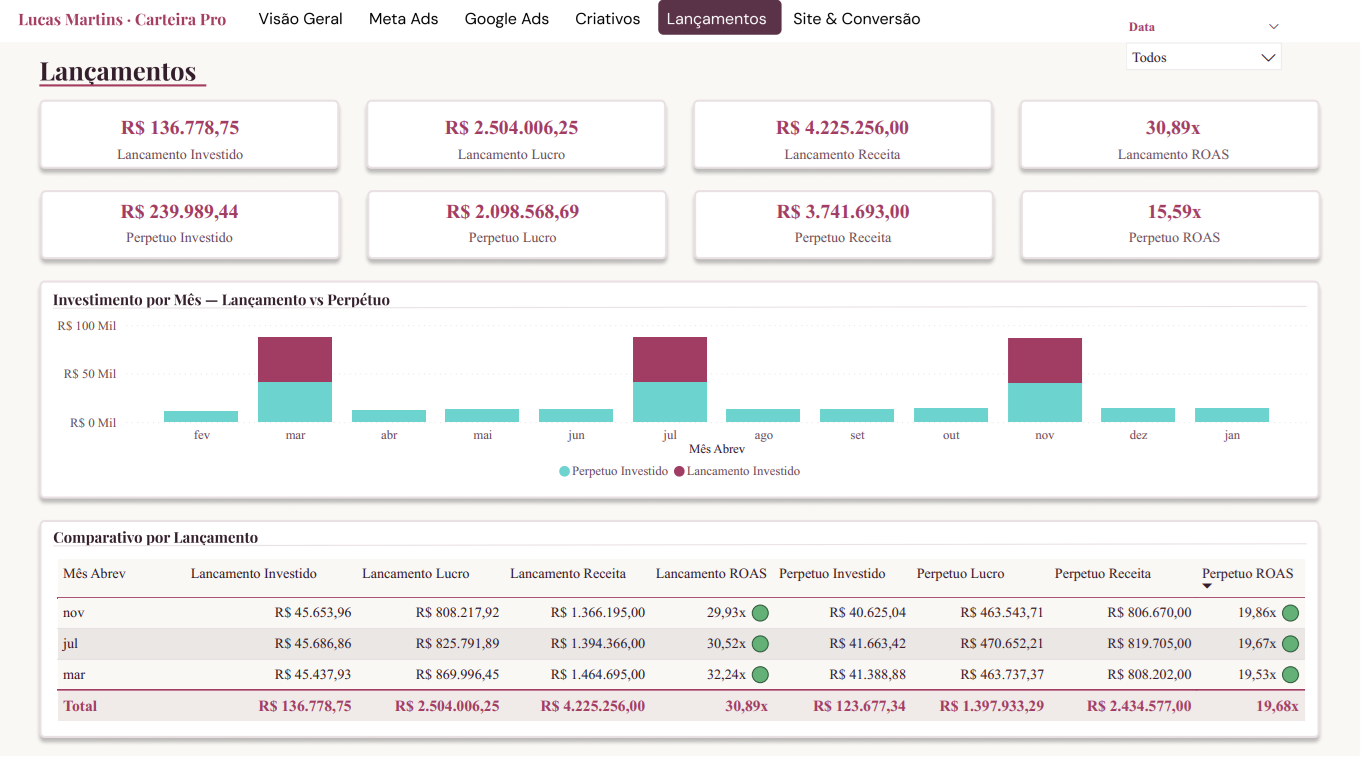

This screenshot's page, from the dashboard's own definition file:
{"tool":"powerbi","page":{"name":"Lançamentos","canvas":[1280,720],"ordinal":4},"visuals":[{"type":"card","fields":{"Values":["Medidas.Lancamento Investido"]},"box":[50,105.7,240,61.4],"z":0},{"type":"card","fields":{"Values":["Medidas.Lancamento Lucro"]},"box":[361.4,105.7,241.4,61.4],"z":1000},{"type":"card","fields":{"Values":["Medidas.Lancamento Receita"]},"box":[672.9,105.7,241.4,61.4],"z":2000},{"type":"card","fields":{"Values":["Medidas.Lancamento ROAS"]},"box":[984.3,105.7,241.4,61.4],"z":3000},{"type":"card","fields":{"Values":["Medidas.Perpetuo Investido"]},"box":[48.6,187.1,241.4,55.7],"z":4000},{"type":"card","fields":{"Values":["Medidas.Perpetuo Lucro"]},"box":[362.9,187.1,240,55.7],"z":5000},{"type":"card","fields":{"Values":["Medidas.Perpetuo Receita"]},"box":[674.3,187.1,240,55.7],"z":6000},{"type":"card","fields":{"Values":["Medidas.Perpetuo ROAS"]},"box":[985.7,187.1,240,55.7],"z":7000},{"type":"columnChart","fields":{"Category":["Calendário.Mês Abrev"],"Y":["Medidas.Perpetuo Investido","Medidas.Lancamento Investido"]},"box":[48.6,300,1187.1,170],"z":8000},{"type":"tableEx","title":"Lançamentos","fields":{"Values":["Calendário.Mês Abrev","Medidas.Lancamento Investido","Medidas.Lancamento Lucro","Medidas.Lancamento Receita","Medidas.Lancamento ROAS","Medidas.Perpetuo Investido","Medidas.Perpetuo Lucro","Medidas.Perpetuo Receita","Medidas.Perpetuo ROAS"]},"box":[48.6,528.6,1187.1,168.6],"z":9000},{"type":"actionButton","box":[241.7,4.9,87.1,40.5],"z":10000},{"type":"actionButton","box":[328.8,4.9,99.4,40.5],"z":11000},{"type":"actionButton","box":[428.2,4.9,99.4,40.5],"z":12000},{"type":"actionButton","box":[528.8,4.9,84.7,40.5],"z":13000},{"type":"actionButton","box":[742.3,6.1,128.8,40.5],"z":14000},{"type":"slicer","fields":{"Values":["Calendário.Date.Variation.Hierarquia de datas.Ano","Calendário.Date.Variation.Hierarquia de datas.Mês"]},"box":[1050.3,20.9,166.9,55.2],"z":15000}]}

Visuals, with their boxes in screenshot pixels (x1, y1, x2, y2), scaled from the page's 1280x720 canvas onto the 1369x758 screenshot:
card - Medidas.Lancamento Investido: l=53, t=111, r=310, b=176
card - Medidas.Lancamento Lucro: l=387, t=111, r=645, b=176
card - Medidas.Lancamento Receita: l=720, t=111, r=978, b=176
card - Medidas.Lancamento ROAS: l=1053, t=111, r=1311, b=176
card - Medidas.Perpetuo Investido: l=52, t=197, r=310, b=256
card - Medidas.Perpetuo Lucro: l=388, t=197, r=645, b=256
card - Medidas.Perpetuo Receita: l=721, t=197, r=978, b=256
card - Medidas.Perpetuo ROAS: l=1054, t=197, r=1311, b=256
columnChart - Calendário.Mês Abrev x Medidas.Perpetuo Investido: l=52, t=316, r=1322, b=495
"Lançamentos" tableEx: l=52, t=556, r=1322, b=734
actionButton: l=259, t=5, r=352, b=48
actionButton: l=352, t=5, r=458, b=48
actionButton: l=458, t=5, r=564, b=48
actionButton: l=566, t=5, r=656, b=48
actionButton: l=794, t=6, r=932, b=49
slicer - Calendário.Date.Variation.Hierarquia de datas.Ano x Calendário.Date.Variation.Hierarquia de datas.Mês: l=1123, t=22, r=1302, b=80
